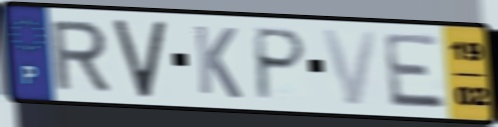E: (380, 32, 450, 112)
K: (191, 22, 245, 102)
P: (253, 25, 310, 103)
R: (47, 19, 113, 93)
V: (318, 26, 381, 108), (110, 18, 169, 100)
